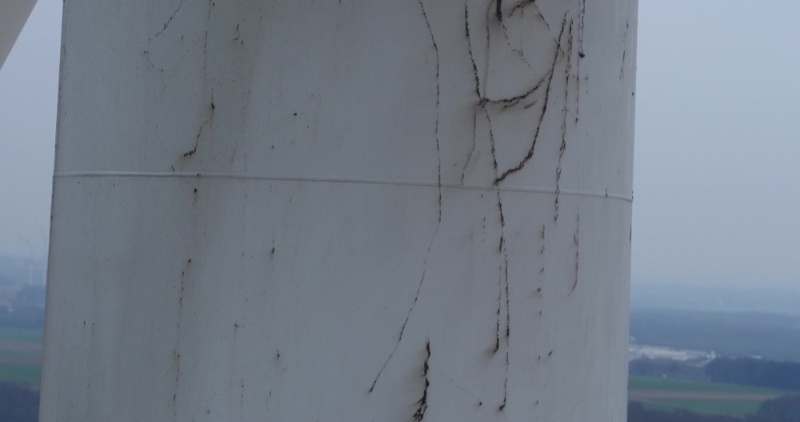weldseam: (50, 165, 635, 208)
